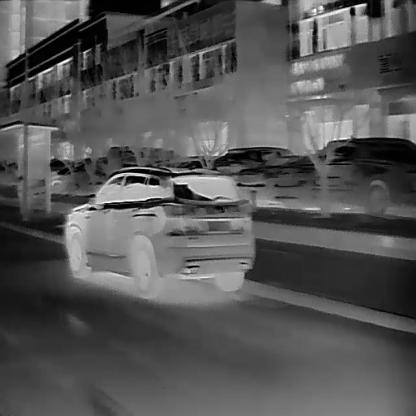car: (63, 165, 255, 298), (320, 134, 416, 217), (274, 156, 334, 208), (213, 146, 289, 186)
